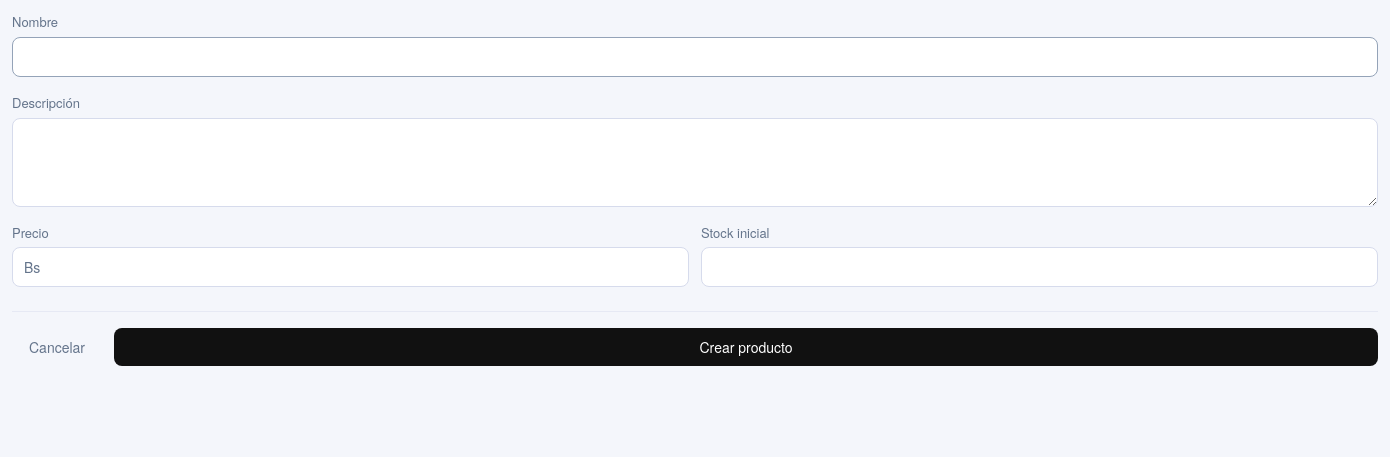
Test case: ProductoForm › campos vacíos muestran mensajes propios en español, no el popover nativo del navegador
Click the button "Crear producto". click: (746, 347)
box: [114,328,1378,366]
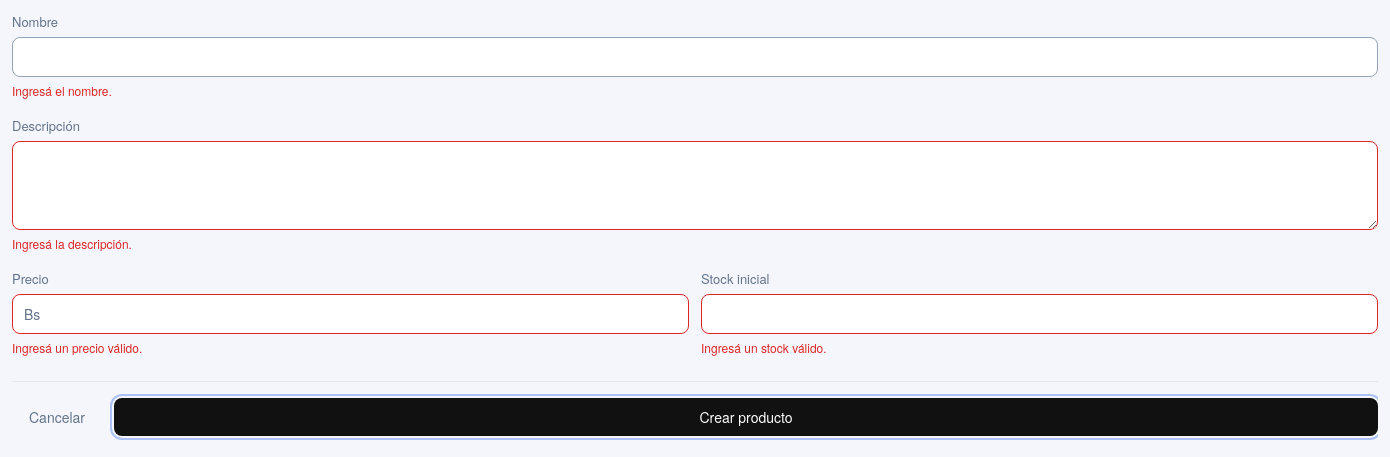
Check: the text "Ingresá el nombre." is shown, box [12,82,112,99]
Check: the text "Ingresá la descripción." is shown, box [12,235,132,252]
Check: the text "Ingresá un precio válido." is shown, box [12,339,142,356]
